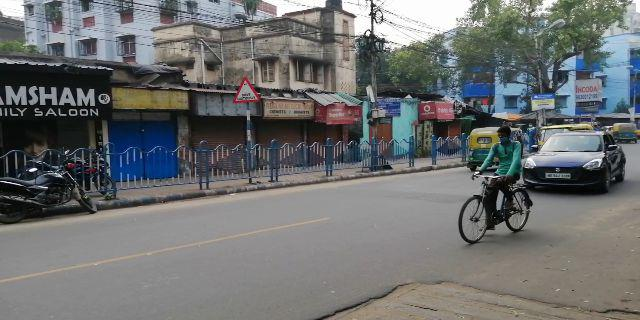Car: (532, 134, 630, 187)
Cycle: (454, 124, 535, 244)
Motorbike: (7, 158, 91, 215)
